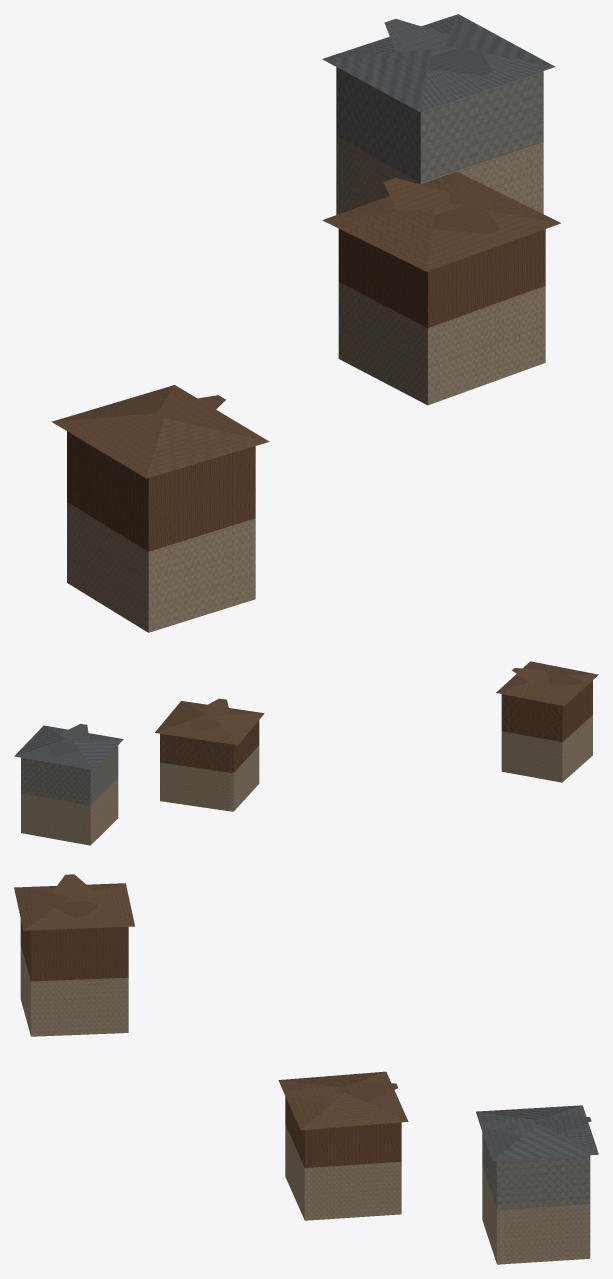
The model's file is bld_c6_38_528.gltf.
3 views of the same model, one above another, from view 1: azimuth 30°, elevation 25°; view 2: azimuth 150°, elevation 25°; view 3: azimuth 270°, elevation 25° (orthographic). The views are drawn at different scales.
Parts seen in each view (by area): view 1: bld_c6_38_528; view 2: bld_c6_38_528; view 3: bld_c6_38_528.
Part boxes in pixels (x1,y1,x2,y2): bld_c6_38_528: (51, 14, 560, 632); bld_c6_38_528: (14, 661, 598, 845); bld_c6_38_528: (14, 874, 598, 1264).
Size of the model in its own units: 50.74 by 12.9 by 48.77.
5 materials, 5 textured.
